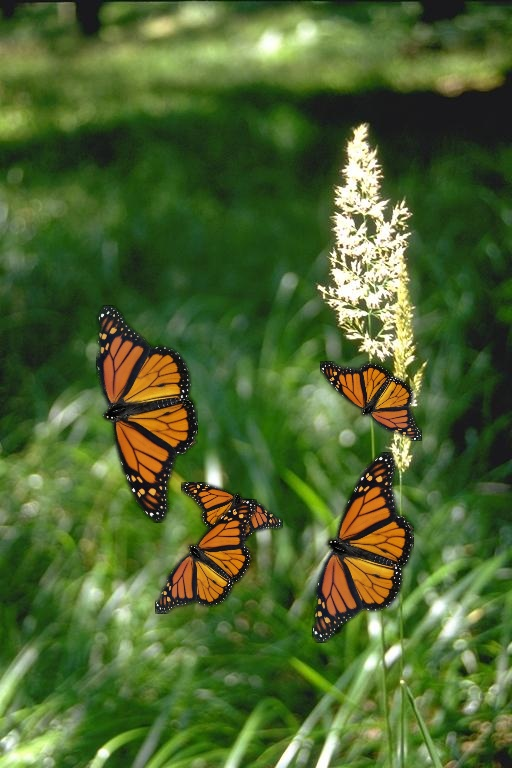danaus_plexippus: (96, 305, 198, 518), (312, 452, 414, 643), (155, 499, 257, 614), (320, 361, 422, 441), (181, 482, 283, 541)
